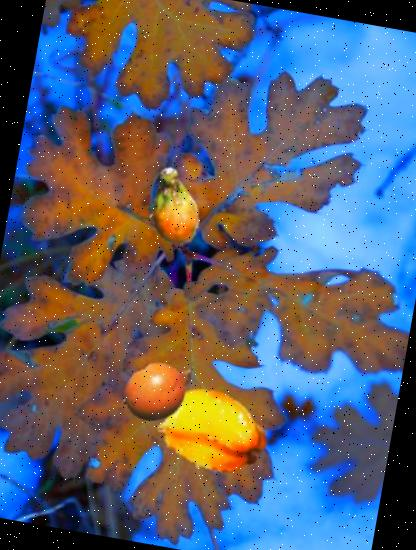Cactus: (129, 160, 221, 252)
Carambula: (147, 366, 279, 498)
Granadilla: (114, 342, 207, 435)
